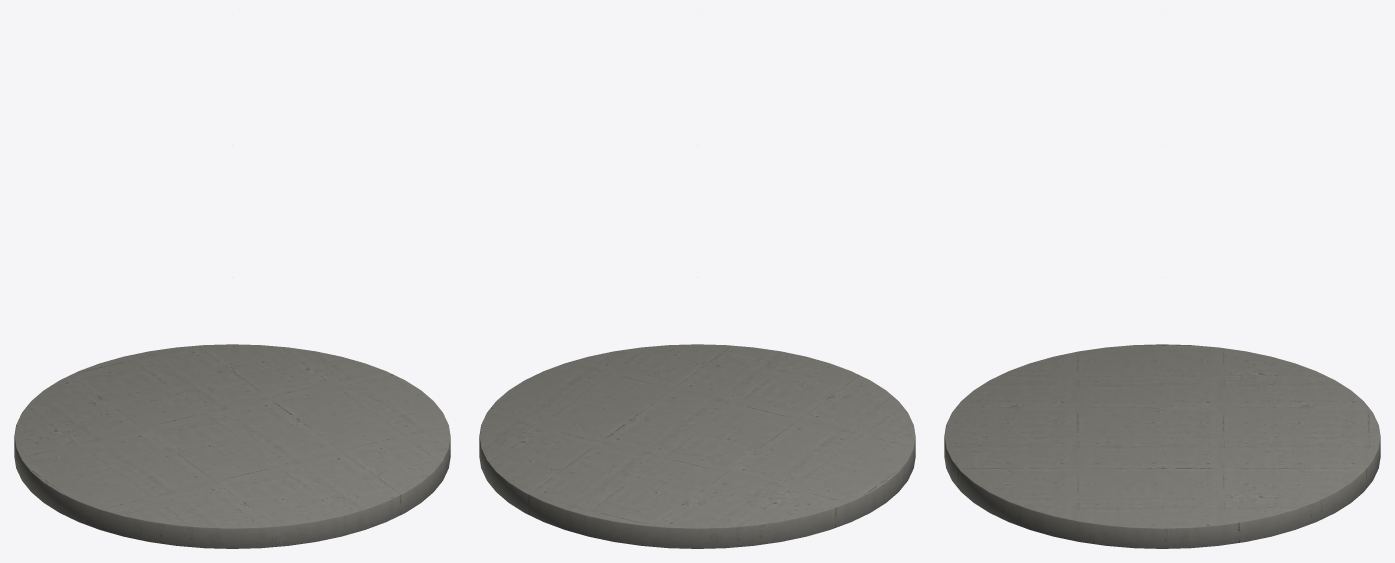
Rendered from HID-TRT-001_anim.glb.
3 views of the same model, side by side, from view 1: azimuth 30°, elevation 25°; view 2: azimuth 150°, elevation 25°; view 3: azimuth 270°, elevation 25° (orthographic).
Parts seen in each view (by area): view 1: HID-TRT-001_anim0; view 2: HID-TRT-001_anim0; view 3: HID-TRT-001_anim0.
Boxes of the visible parts, x1,y1,x2,y2 form: HID-TRT-001_anim0: (14,344,450,548); HID-TRT-001_anim0: (479,344,915,548); HID-TRT-001_anim0: (944,344,1380,548).
Bounding box in the file's own units: 1.5 × 1.68 × 1.5.
Materials: 2 (1 with a texture image).
